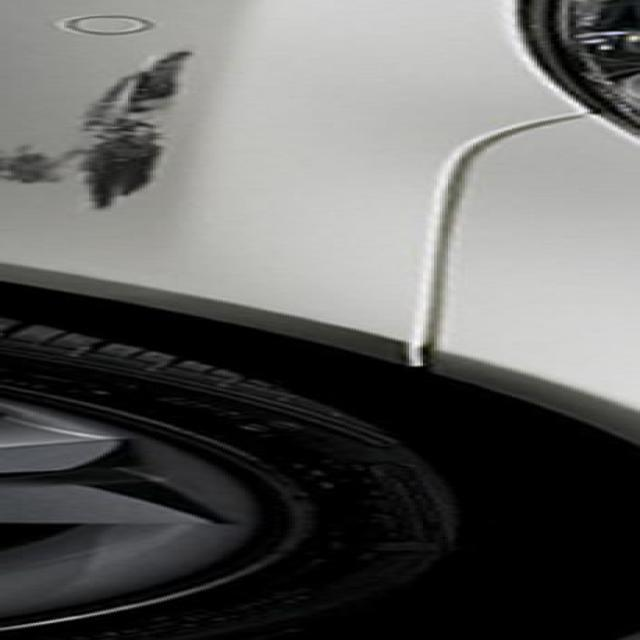scratch: (0, 35, 234, 244)
